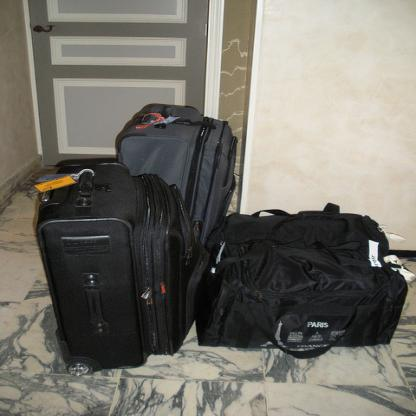handbag: (199, 243, 409, 350)
suitcase: (24, 159, 204, 377), (115, 105, 237, 261)
